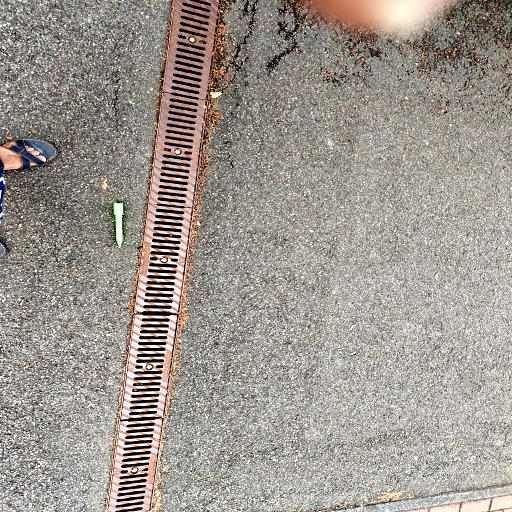Probe-Detection: (113, 203, 123, 248)
